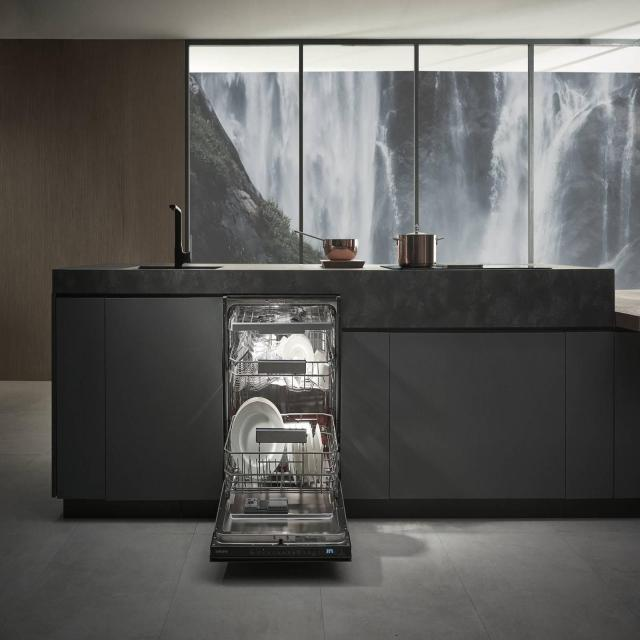dishwasher: (209, 292, 354, 559)
